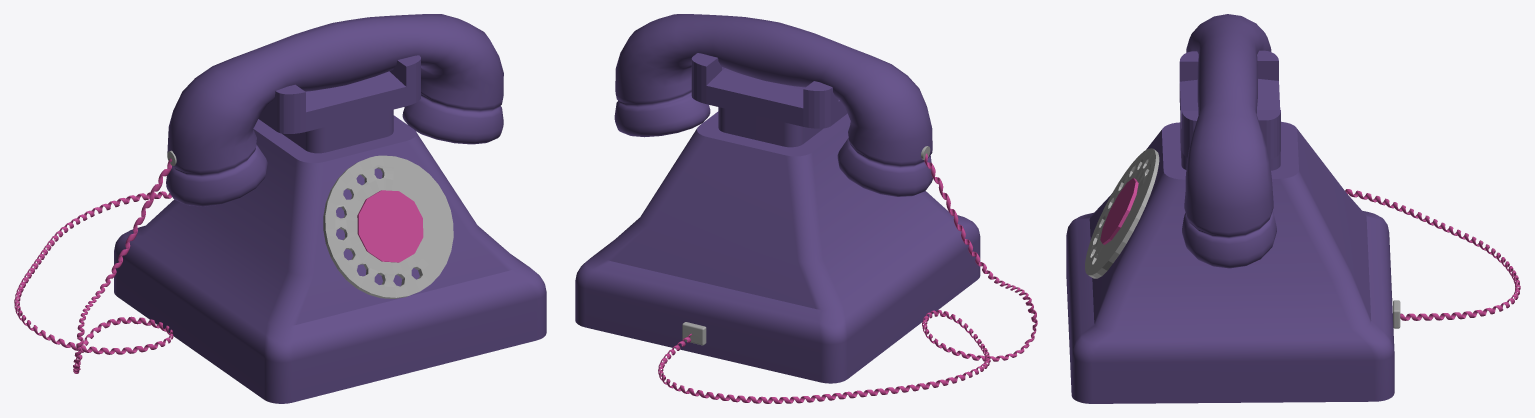
The model's file is Phone.fbx.
3 renders of one model, left to right at view 1: azimuth 30°, elevation 25°; view 2: azimuth 150°, elevation 25°; view 3: azimuth 270°, elevation 25°, orthographic. The views are drawn at different scales.
Parts seen in each view (by area): view 1: pCylinder32, pCylinder31; view 2: pCylinder32; view 3: pCylinder32, pCylinder31.
Boxes of the visible parts, left/top/right/bottom form: pCylinder32: left=14, top=14, right=546, bottom=403; pCylinder31: left=323, top=155, right=453, bottom=298; pCylinder32: left=575, top=14, right=1037, bottom=403; pCylinder32: left=1066, top=14, right=1520, bottom=403; pCylinder31: left=1085, top=148, right=1159, bottom=278.
Size of the model in its own units: 1.34 by 0.8554 by 1.23.
